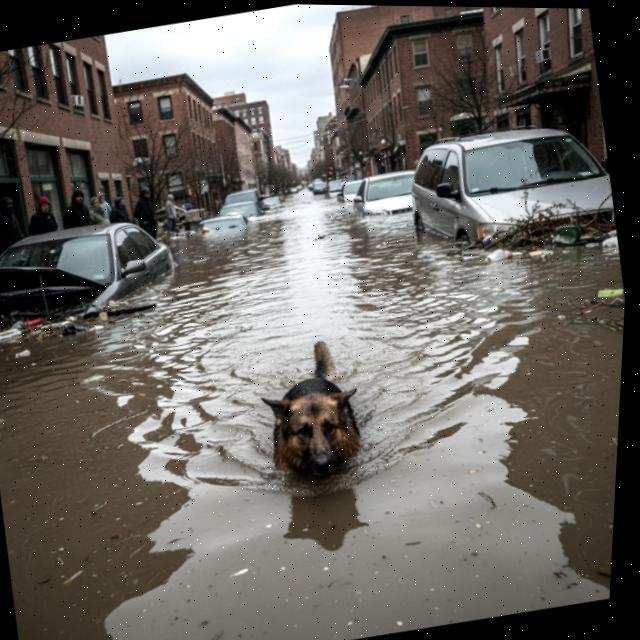civilian: (126, 181, 166, 242), (0, 191, 31, 255), (21, 192, 62, 239), (59, 184, 98, 233), (160, 188, 187, 233), (106, 192, 135, 229), (84, 191, 112, 227), (94, 187, 117, 218)
dog: (229, 319, 410, 512)
